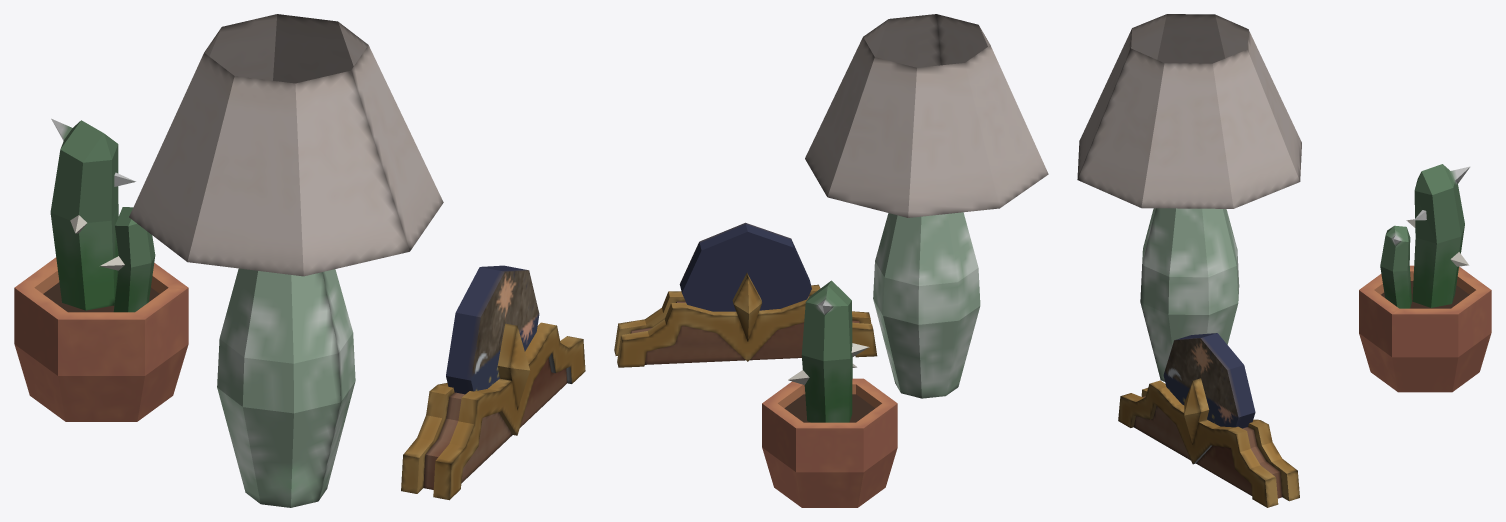
File: nightstand_stuff.fbx
3 views of the same model, side by side, from view 1: azimuth 30°, elevation 25°; view 2: azimuth 150°, elevation 25°; view 3: azimuth 270°, elevation 25° (orthographic). The views are drawn at different scales.
Parts seen in each view (by area): view 1: lamp.001, cactus.001, clock base.001, clock face.001; view 2: lamp.001, cactus.001, clock base.001, clock face.001; view 3: lamp.001, cactus.001, clock base.001, clock face.001.
Boxes of the visible parts, x1,y1,x2,y2 form: lamp.001: (129, 14, 443, 507); cactus.001: (14, 118, 188, 421); clock base.001: (401, 322, 585, 500); clock face.001: (446, 265, 539, 394); lamp.001: (805, 14, 1048, 398); cactus.001: (762, 280, 897, 507); clock base.001: (614, 273, 877, 367); clock face.001: (679, 222, 811, 311); lamp.001: (1077, 14, 1301, 381); cactus.001: (1359, 164, 1491, 392); clock base.001: (1118, 378, 1299, 507); clock face.001: (1163, 333, 1255, 428).
Size of the model in its own units: 39.51 by 35.76 by 38.93.
